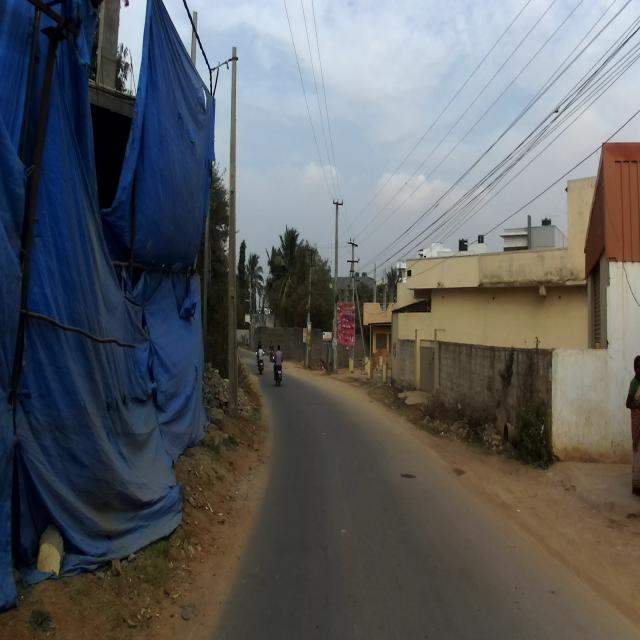electric pole ahead at: (222, 42, 246, 417)
